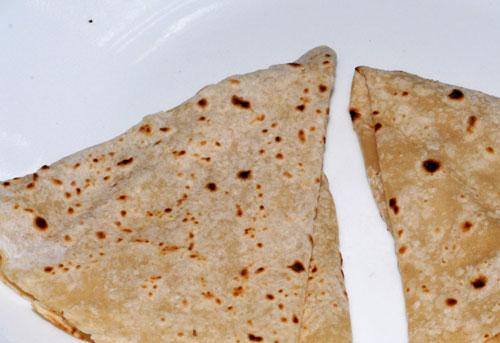chapati: (0, 47, 352, 342), (349, 66, 500, 341)
